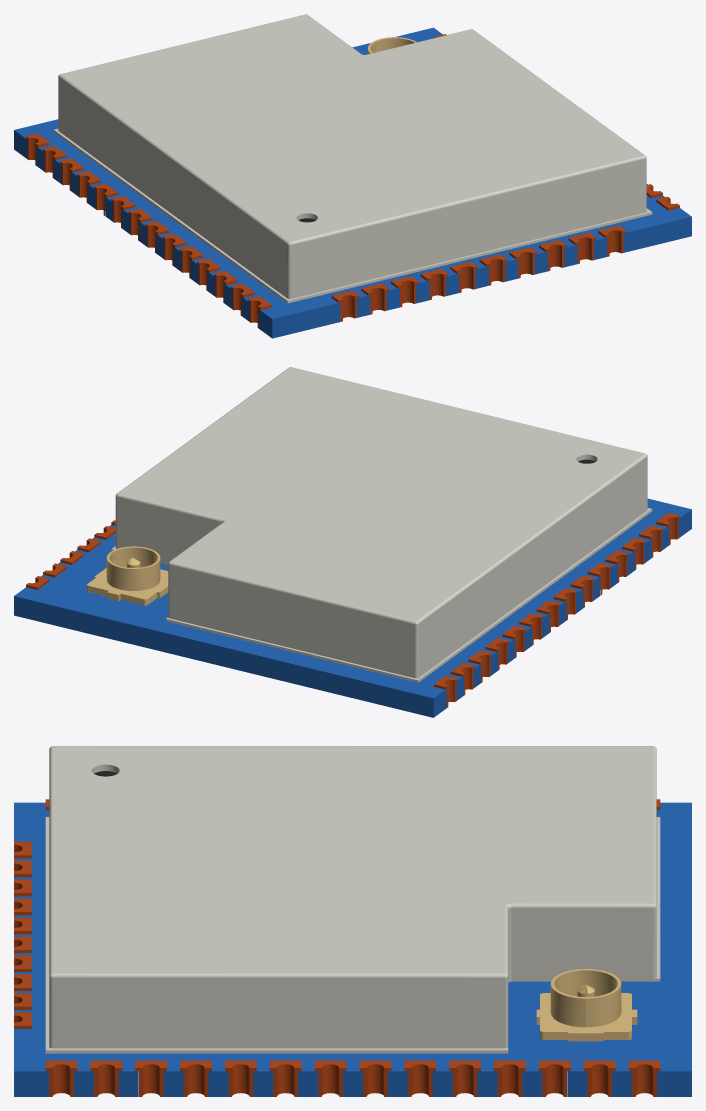
File: kc-esp32-wroom-32u.glb
3 renders of one model, top to bottom at view 1: azimuth 30°, elevation 25°; view 2: azimuth 150°, elevation 25°; view 3: azimuth 270°, elevation 25°, orthographic. The views are drawn at different scales.
Visible parts, largest first — view 1: 0.6666666666666666_0.6666666666666666_0.5833333333333334_0.8, 0_0.16666666666666666_0.5_0, 0.4166666666666667_0.08333333333333333_0_0; view 2: 0.6666666666666666_0.6666666666666666_0.5833333333333334_0.8, 0_0.16666666666666666_0.5_0, 0.4166666666666667_0.08333333333333333_0_0, 0.75_0.5_0.25_0.9; view 3: 0.6666666666666666_0.6666666666666666_0.5833333333333334_0.8, 0_0.16666666666666666_0.5_0, 0.4166666666666667_0.08333333333333333_0_0, 0.75_0.5_0.25_0.9.
Part boxes in pixels (x1,y1,x2,y2): 0.6666666666666666_0.6666666666666666_0.5833333333333334_0.8: (53,14,652,303); 0_0.16666666666666666_0.5_0: (14,27,691,338); 0.4166666666666667_0.08333333333333333_0_0: (26,34,679,328); 0.6666666666666666_0.6666666666666666_0.5833333333333334_0.8: (111,367,652,682); 0_0.16666666666666666_0.5_0: (14,498,691,717); 0.4166666666666667_0.08333333333333333_0_0: (26,513,679,707); 0.75_0.5_0.25_0.9: (86,546,168,605); 0.6666666666666666_0.6666666666666666_0.5833333333333334_0.8: (45,746,660,1053); 0_0.16666666666666666_0.5_0: (14,802,691,1096); 0.4166666666666667_0.08333333333333333_0_0: (14,799,660,1096); 0.75_0.5_0.25_0.9: (536,968,637,1041).
Size of the model in its own units: 1.8 by 0.32 by 1.92.
